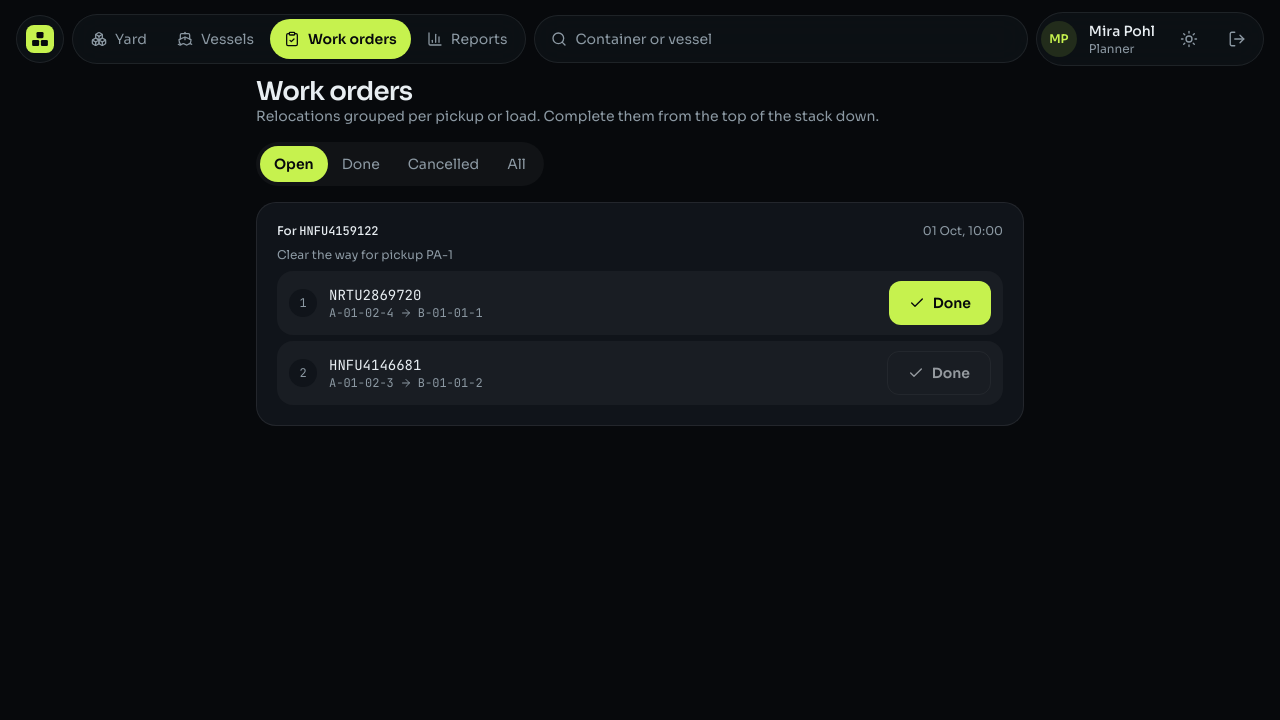
Test: work orders › only lets the next relocation in a group be completed
Expected: the button with aria-label "Mark relocation of HNFU4146681 done" is disabled, [887, 351, 991, 395]
Click the button with aria-label "Mark relocation of NRTU2869720 done".
click(940, 303)  # box [889, 281, 991, 325]
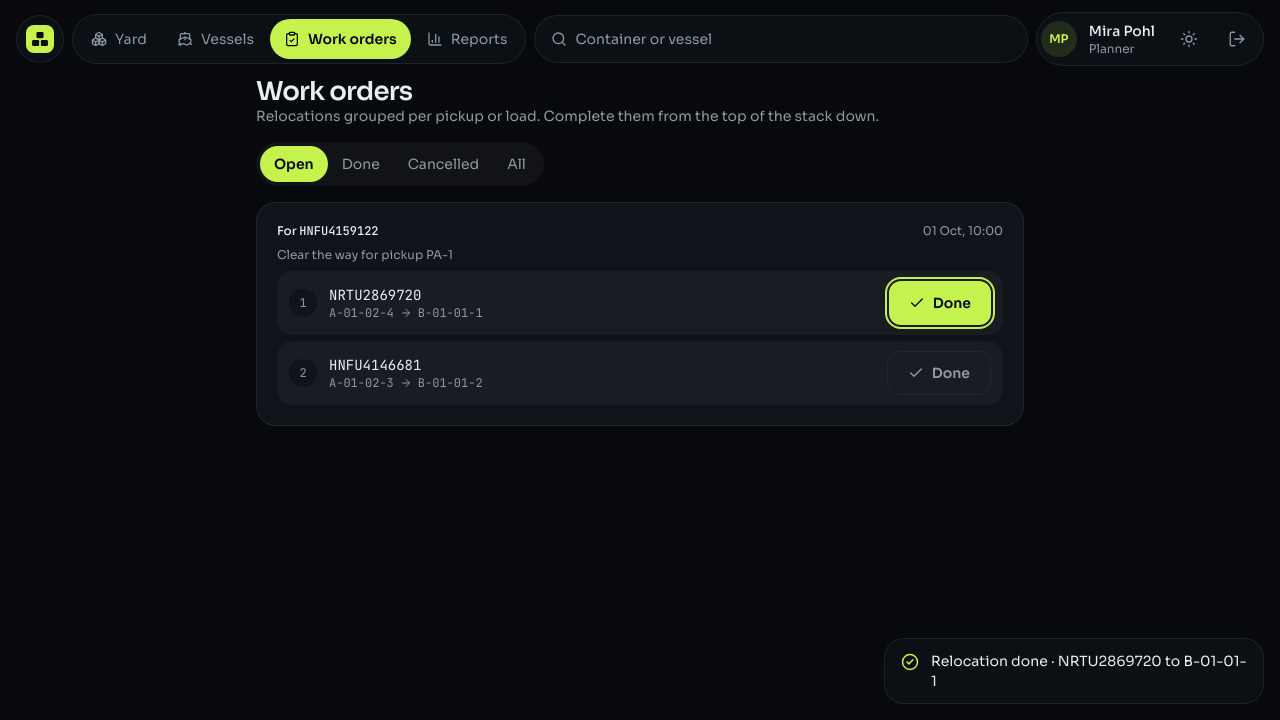
Expected: the text "Relocation done · NRTU2869720 to B-01-01-1" is shown, [931, 651, 1247, 691]
